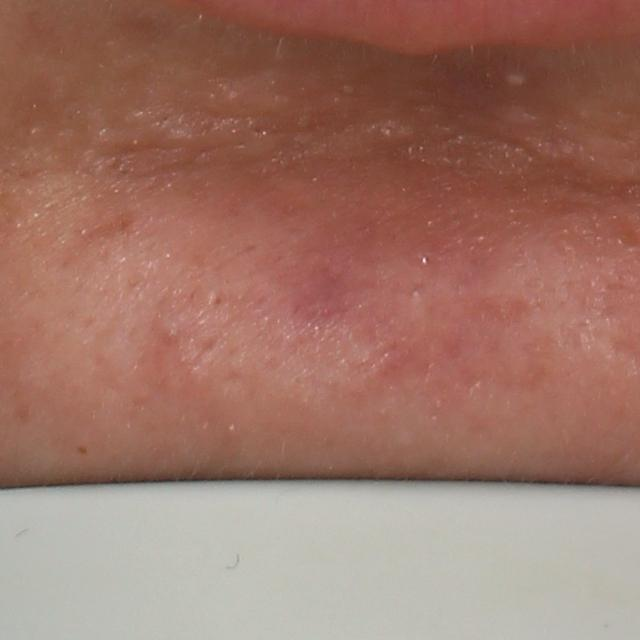hypertrophic_scar: (189, 70, 326, 120), (370, 116, 423, 146)
